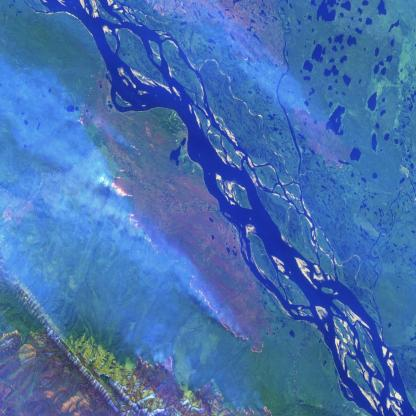fire: (107, 134, 267, 363), (188, 382, 278, 416)
